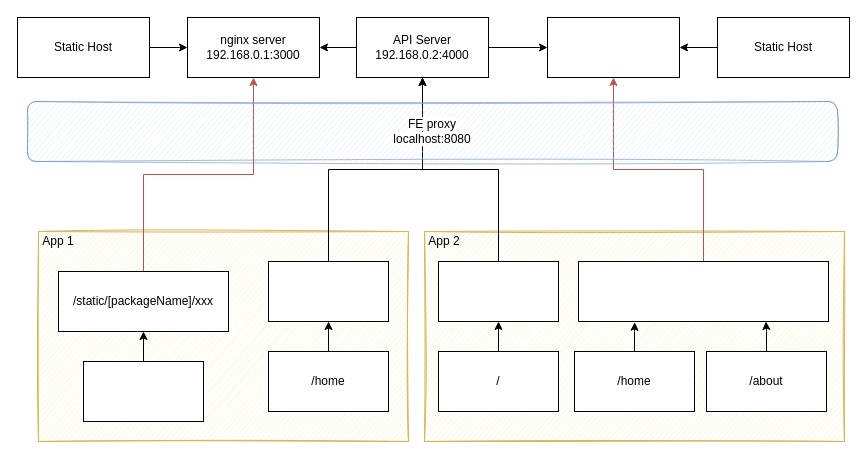
Some shapes in this 867 by 459 pixel diagram are drawn without their labels. Here are the shapes that lost their labels. From the top down, the centre of each, then its label:
At (613,47): "nginx server 192.168.0.1:8080".
At (328,291): "/api/xxx".
At (498,291): "/api/xxxx".
At (703,291): "/static/[packageName]/xxxx".
At (143,391): "/user".
